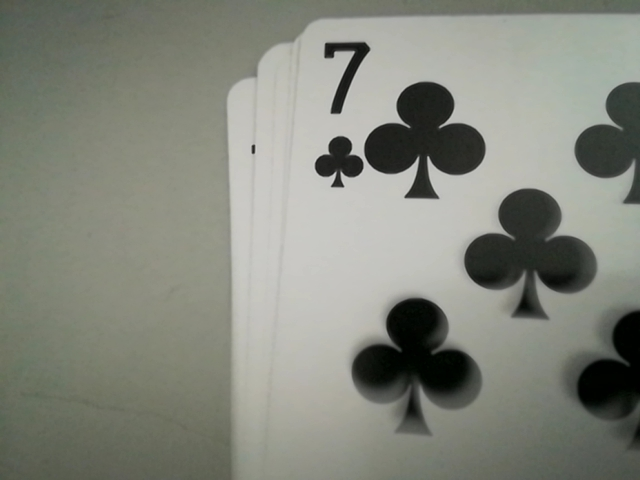mh 7: (302, 46, 376, 189)
